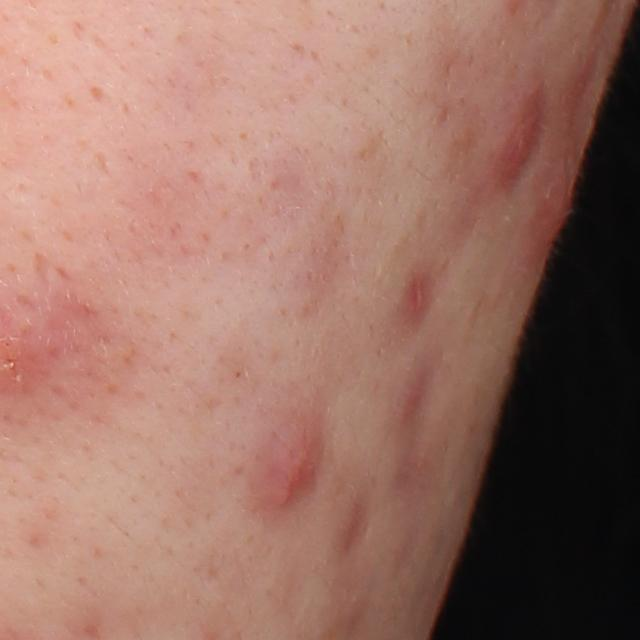atrophic_scar: (402, 365, 448, 478), (343, 494, 378, 562)
papule: (246, 400, 320, 522), (485, 74, 549, 192), (537, 168, 582, 241), (400, 273, 431, 318)
